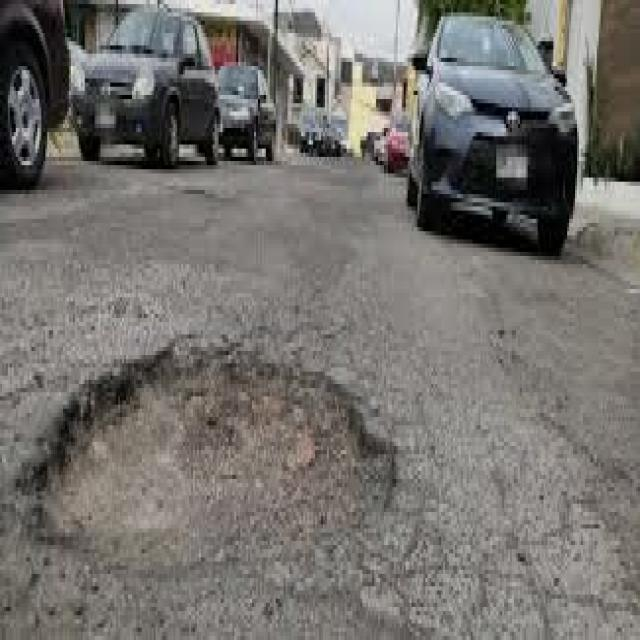Buraco: (8, 345, 406, 578)
